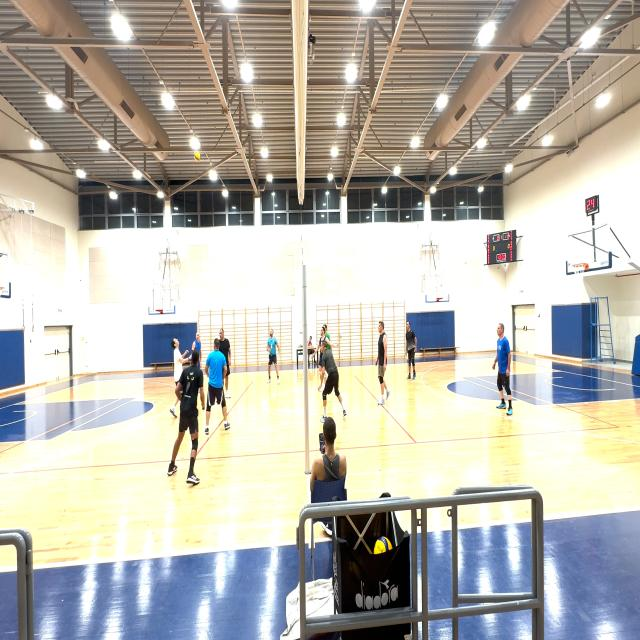volleyball: (373, 536, 393, 555), (194, 150, 200, 161)
